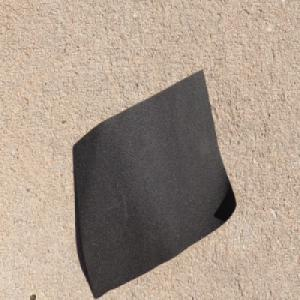PaintChip: (72, 67, 237, 300)
